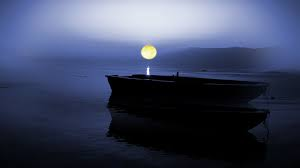boat: (105, 71, 269, 103)
